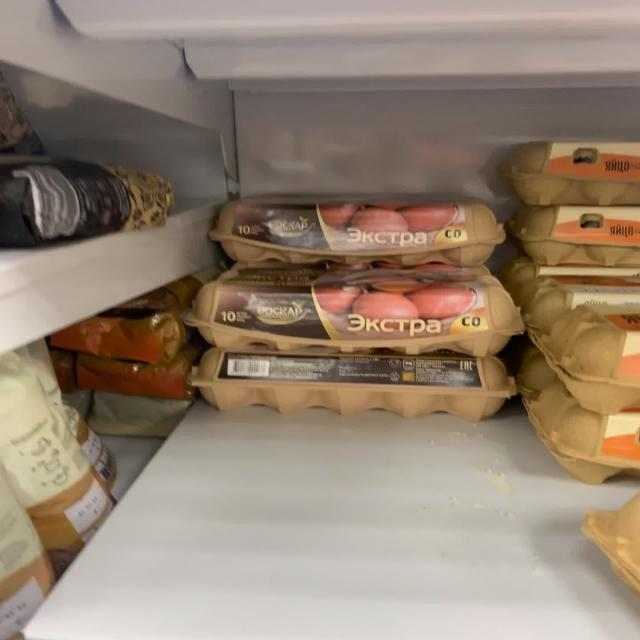egg box: (183, 265, 524, 354), (208, 191, 504, 265), (183, 356, 522, 412)
